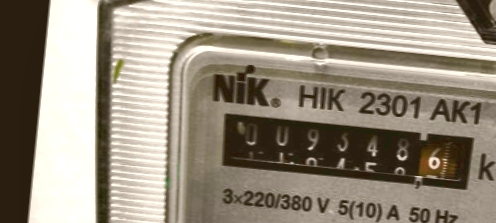0: (273, 121, 290, 145), (243, 118, 258, 145)
3: (333, 126, 350, 153)
4: (363, 129, 380, 157)
6: (424, 142, 444, 171)
8: (393, 133, 410, 162)
9: (302, 124, 320, 151)
screen: (209, 103, 483, 198)
